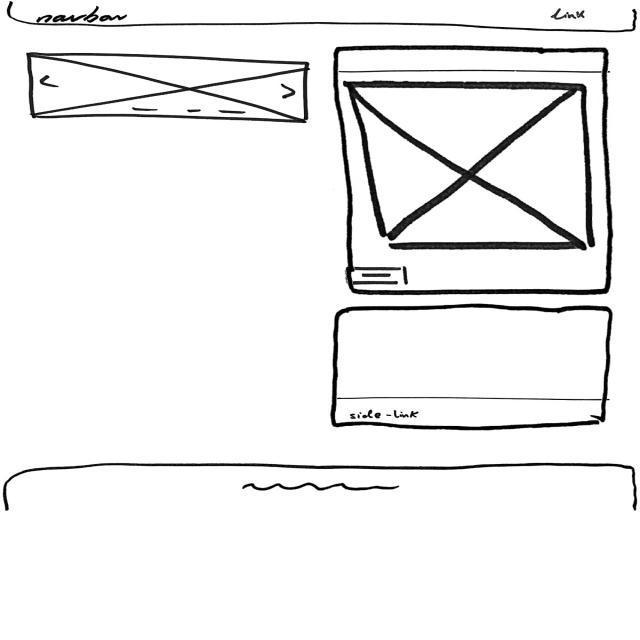container: (344, 46, 614, 297), (326, 305, 616, 432), (3, 1, 640, 32)
icon-button: (344, 263, 414, 287)
image: (345, 79, 598, 253), (26, 52, 313, 123)
label: (37, 3, 131, 25), (352, 407, 425, 421), (550, 5, 591, 26)
text: (237, 481, 405, 494)
